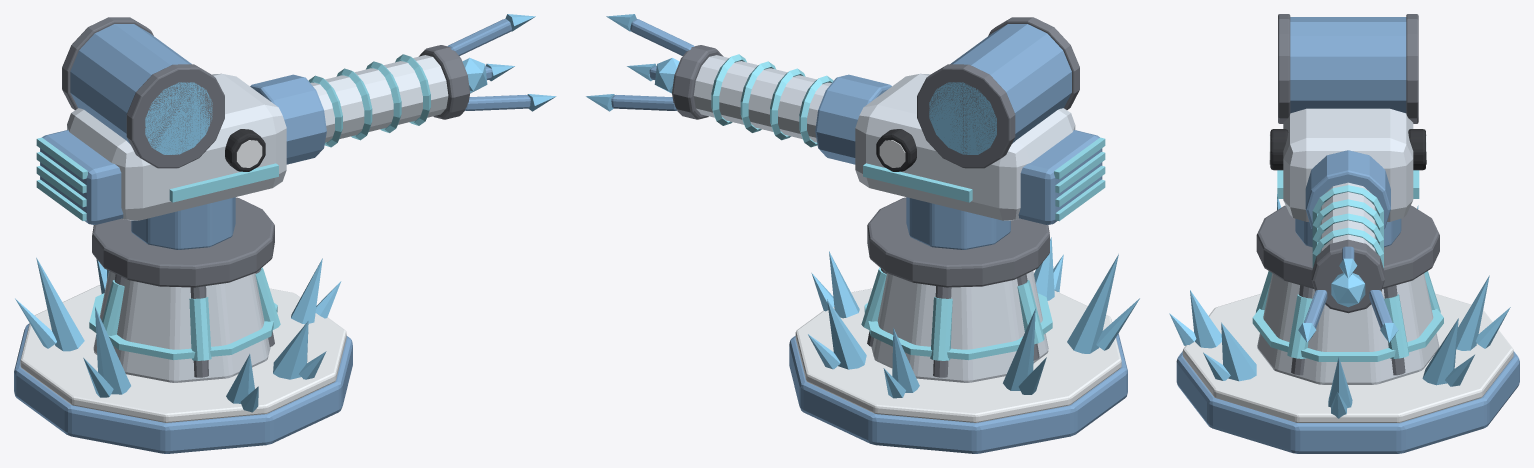
Rendered from torreta_criogenica.obj.
The picture shows the model from 3 angles, left to right: view 1: azimuth 30°, elevation 25°; view 2: azimuth 150°, elevation 25°; view 3: azimuth 270°, elevation 25°; orthographic projection.
Parts seen in each view (by area): view 1: Base, Pivot, Barrel; view 2: Base, Pivot, Barrel; view 3: Base, Pivot, Barrel.
Boxes of the visible parts, x1=… form: Base: x1=14, y1=257, x2=352, y2=453; Pivot: x1=36, y1=17, x2=286, y2=287; Barrel: x1=250, y1=14, x2=556, y2=164; Base: x1=789, y1=237, x2=1139, y2=453; Pivot: x1=855, y1=17, x2=1105, y2=287; Barrel: x1=586, y1=14, x2=891, y2=164; Base: x1=1169, y1=194, x2=1519, y2=453; Pivot: x1=1256, y1=14, x2=1439, y2=288; Barrel: x1=1298, y1=150, x2=1398, y2=342.
Size of the model in its own units: 4.28 by 2.89 by 2.64.
1 material, 1 textured.
